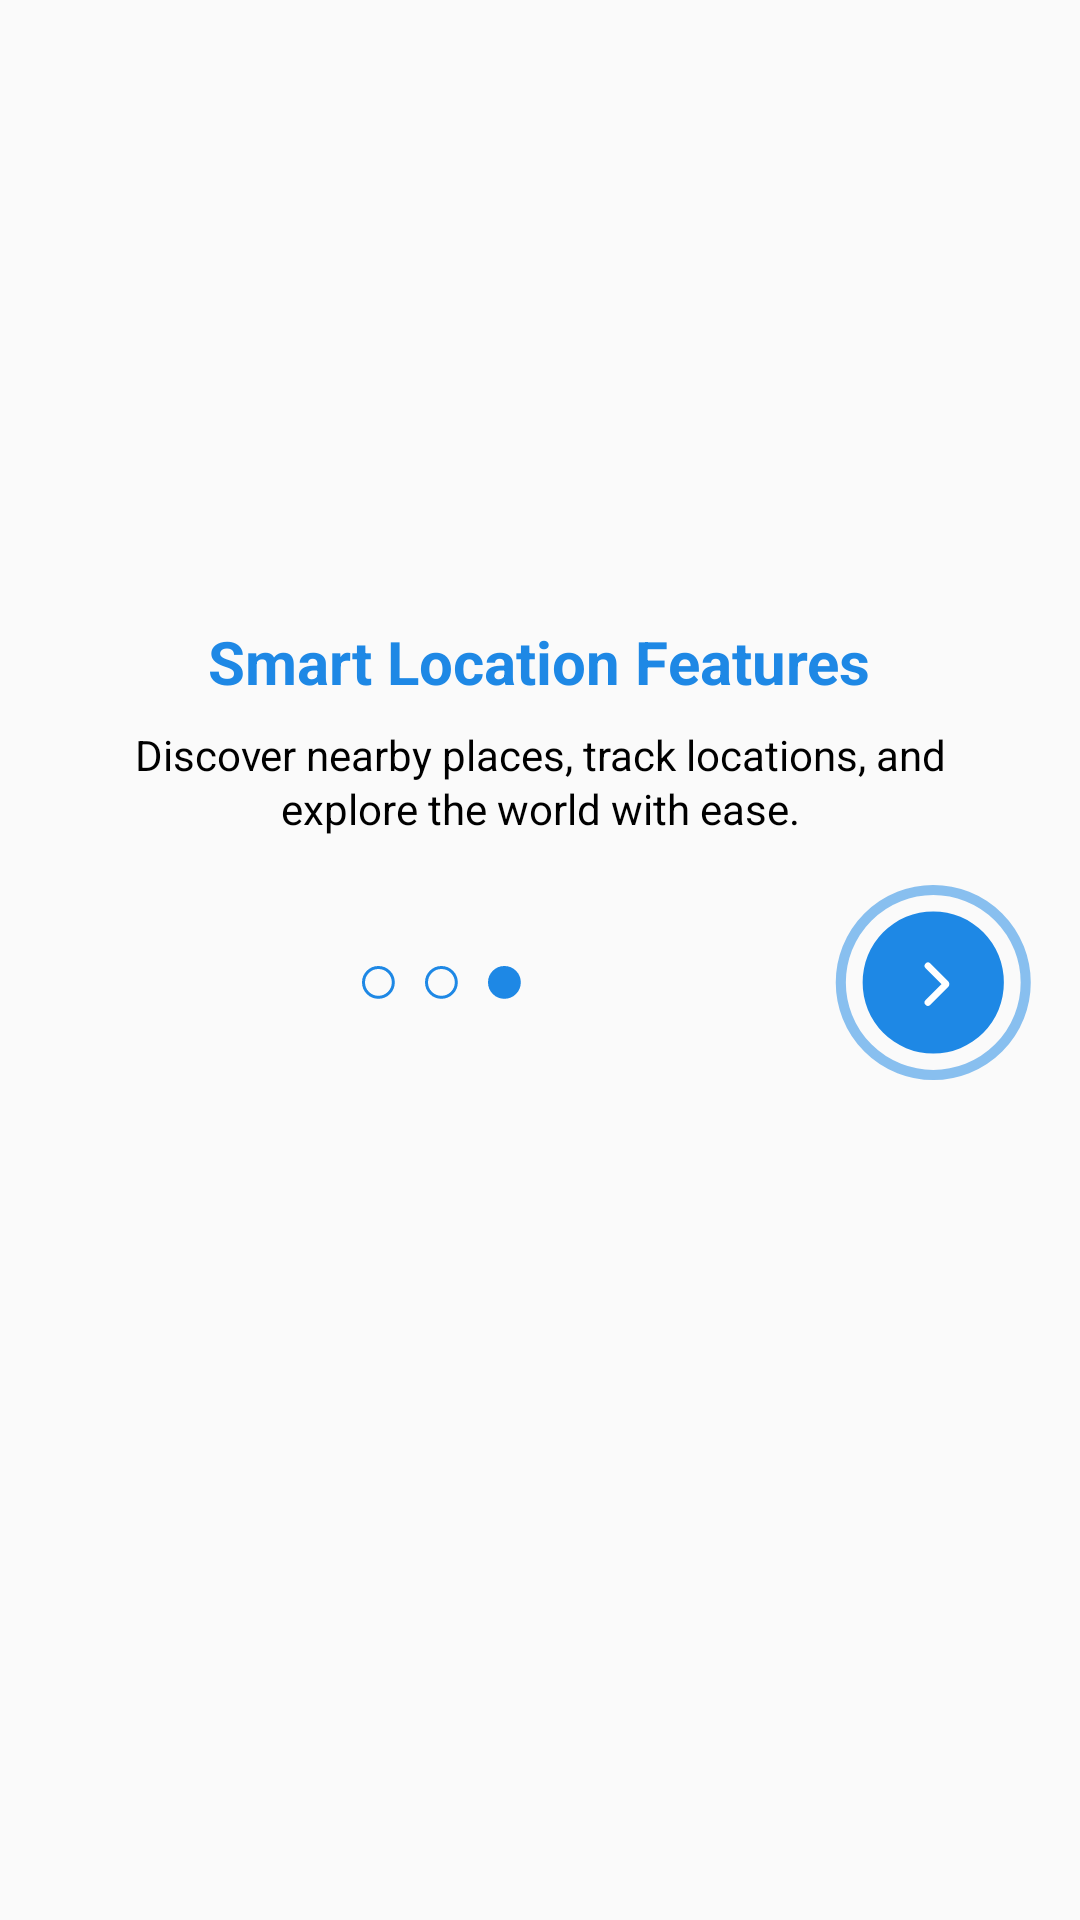

Point at icon controls on the screen. Image size 1080*1920, points as (x=x, y=y).
dot: (x=441, y=982)
nextbtnround: (x=933, y=982)
